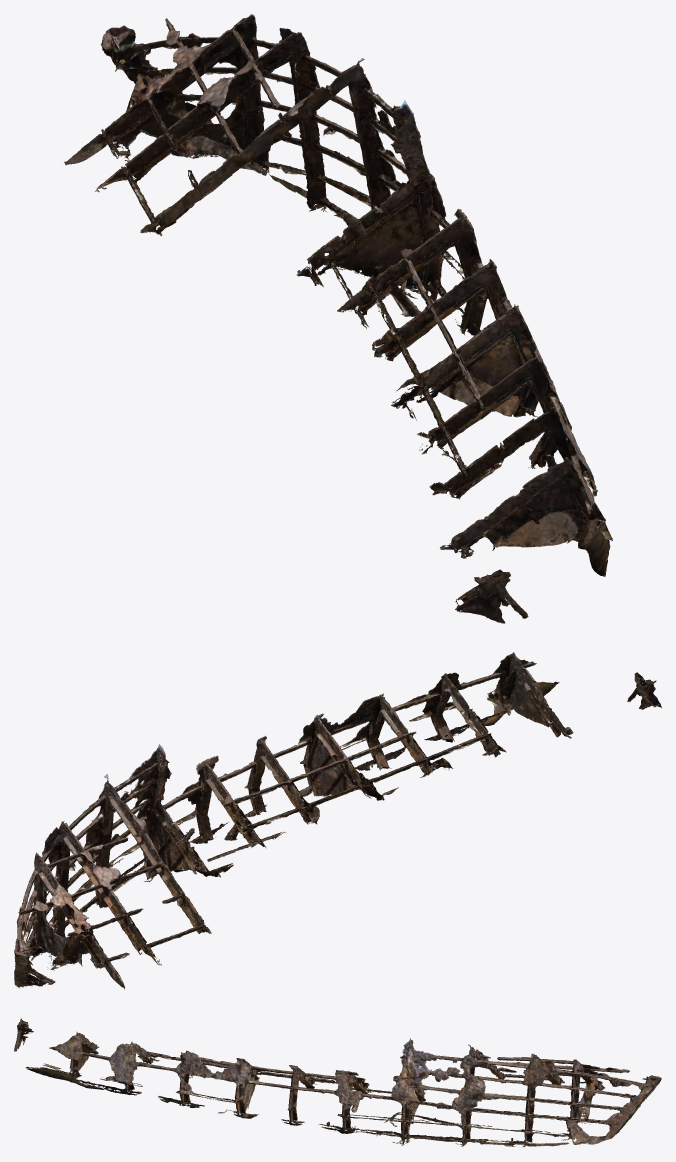
File: wreck.glb
The picture shows the model from 3 angles, top to bottom: view 1: azimuth 30°, elevation 25°; view 2: azimuth 150°, elevation 25°; view 3: azimuth 270°, elevation 25°; orthographic projection. The views are drawn at different scales.
Parts seen in each view (by area): view 1: shipwreack_Model_3m_shipwreack_Model_3m_u1_v1_0; view 2: shipwreack_Model_3m_shipwreack_Model_3m_u1_v1_0; view 3: shipwreack_Model_3m_shipwreack_Model_3m_u1_v1_0.
Part boxes in pixels (x1,y1,x2,y2): shipwreack_Model_3m_shipwreack_Model_3m_u1_v1_0: (64, 14, 612, 623); shipwreack_Model_3m_shipwreack_Model_3m_u1_v1_0: (14, 652, 661, 989); shipwreack_Model_3m_shipwreack_Model_3m_u1_v1_0: (14, 1018, 661, 1146).
Bounding box in the file's own units: 7.66 × 4.04 × 23.06.
1 material, 1 textured.
